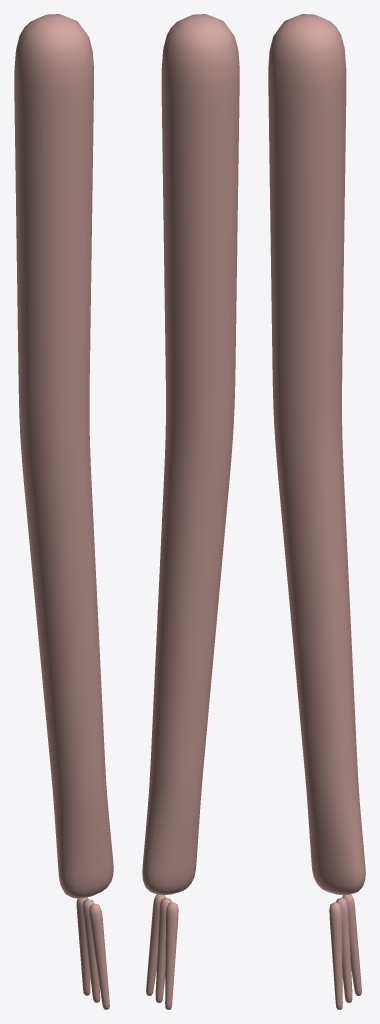
Rendered from SM_SkinStealer_Arm.fbx.
3 views of the same model, side by side, from view 1: azimuth 30°, elevation 25°; view 2: azimuth 210°, elevation 25°; view 3: azimuth 330°, elevation 25° (orthographic). The views are drawn at different scales.
Visible parts, largest first — view 1: SM_SkinStealer_Arm; view 2: SM_SkinStealer_Arm; view 3: SM_SkinStealer_Arm.
Part boxes in pixels (left/top/right/bottom): SM_SkinStealer_Arm: left=14, top=14, right=113, bottom=1009; SM_SkinStealer_Arm: left=142, top=14, right=239, bottom=1009; SM_SkinStealer_Arm: left=268, top=14, right=365, bottom=1009.
Bounding box in the file's own units: 10.74 × 111 × 8.03.
